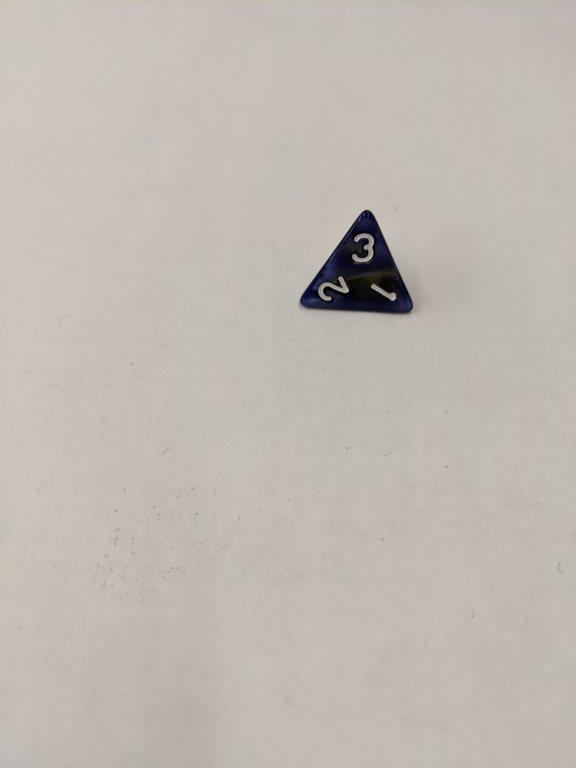d4-3: (297, 208, 418, 322)
